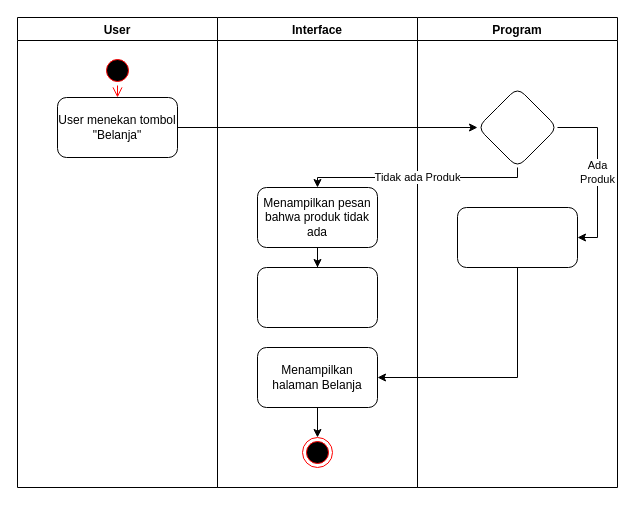
The diagram is 635 pixels wide and 505 high, and some of its shapes have lost their labels. Here are the shapes that lost their labels. From the top down, the centre of each, then its label:
At (517,127): "Validasi Produk".
At (517,237): "Sistem membuat objek transaksi".
At (317,297): "Menampilkan halaman tambah produk".
